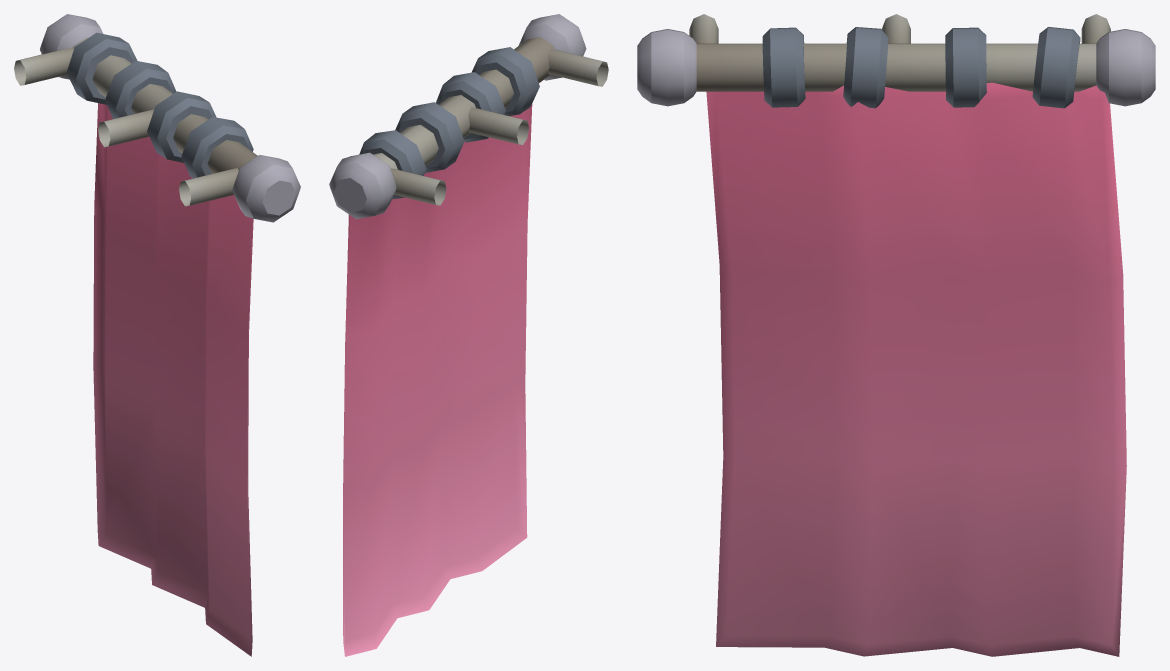
Rendered from Curtains_Short_1_B_K.glb.
3 views of the same model, side by side, from view 1: azimuth 30°, elevation 25°; view 2: azimuth 150°, elevation 25°; view 3: azimuth 270°, elevation 25° (orthographic). The views are drawn at different scales.
Visible parts, largest first — view 1: Curtains_Short_1_B_K; view 2: Curtains_Short_1_B_K; view 3: Curtains_Short_1_B_K.
Boxes of the visible parts, left/top/right/bottom form: Curtains_Short_1_B_K: left=14, top=14, right=300, bottom=656; Curtains_Short_1_B_K: left=329, top=14, right=608, bottom=656; Curtains_Short_1_B_K: left=637, top=14, right=1155, bottom=656.
Bounding box in the file's own units: 0.2275 × 1.16 × 0.8807.
2 materials, 2 textured.
